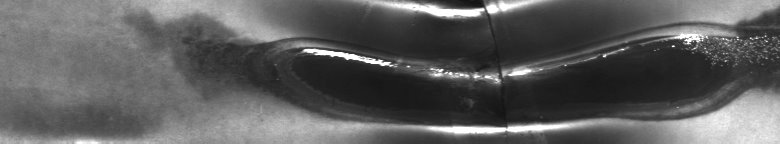ke: (232, 4, 776, 136)
